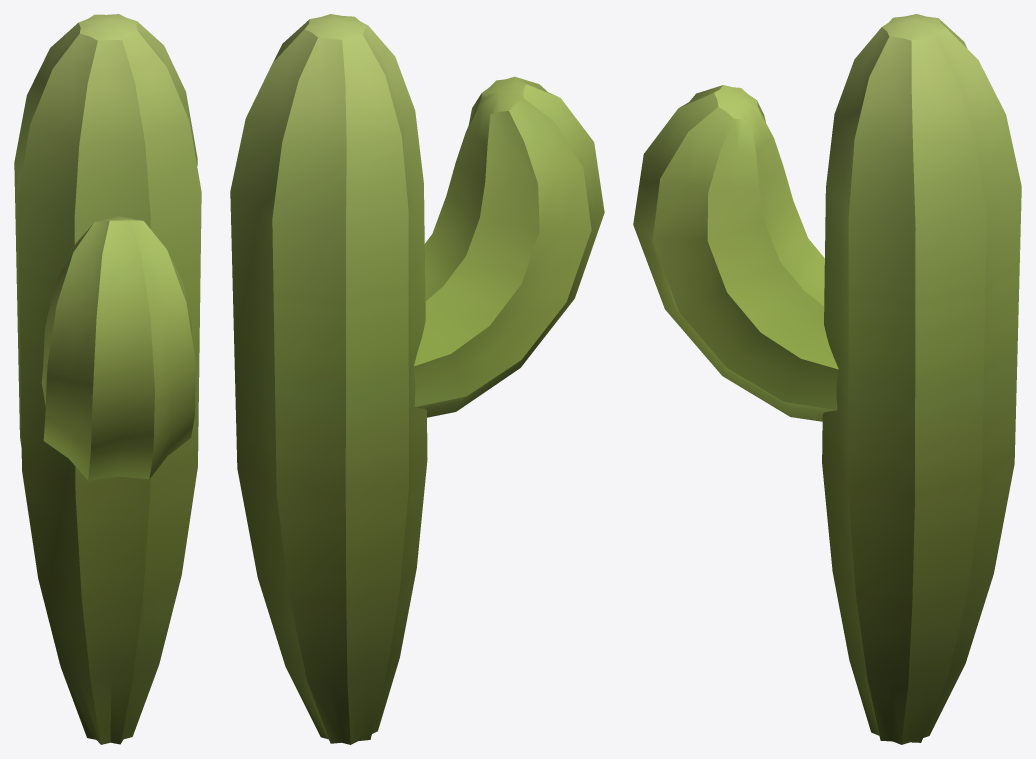
File: military_cactus2.fbx
3 renders of one model, left to right at view 1: azimuth 30°, elevation 25°; view 2: azimuth 150°, elevation 25°; view 3: azimuth 270°, elevation 25°, orthographic.
Parts seen in each view (by area): view 1: military_cactus2; view 2: military_cactus2; view 3: military_cactus2.
Part boxes in pixels (x1,y1,x2,y2): military_cactus2: (14, 14, 201, 744); military_cactus2: (230, 14, 604, 744); military_cactus2: (633, 14, 1021, 744).
Size of the model in its own units: 0.5252 by 1.44 by 0.708.
